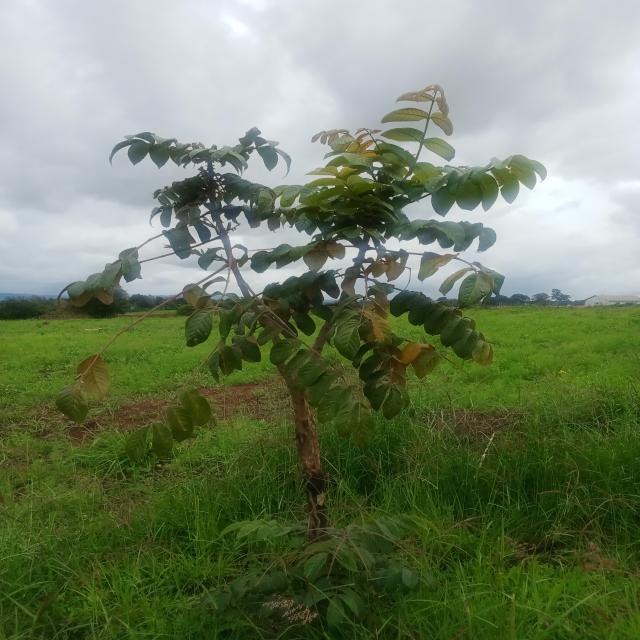Polyscias Kikuyensis: (59, 84, 552, 622)
